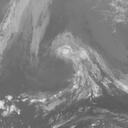cyclone: (53, 32, 87, 66)
